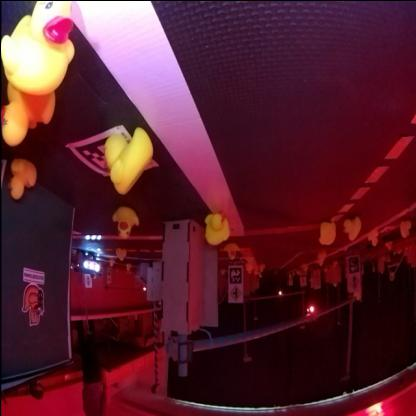Duckie: (7, 9, 74, 92), (6, 81, 56, 145), (106, 130, 152, 192), (10, 160, 36, 198), (112, 208, 138, 238), (204, 213, 228, 245), (320, 222, 336, 244), (344, 218, 361, 238), (226, 244, 238, 258), (116, 249, 126, 261), (402, 222, 410, 236), (370, 233, 378, 245)
Duckiebot: (76, 252, 100, 274)
Intersection sign: (230, 286, 242, 302)
QR code: (67, 126, 156, 176), (229, 266, 242, 283), (348, 257, 359, 273)
Signal sign: (349, 275, 358, 292)
